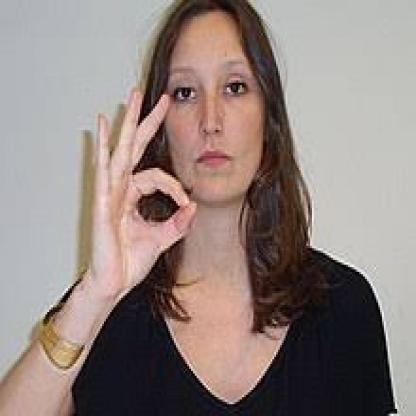ok: (87, 82, 200, 298)
